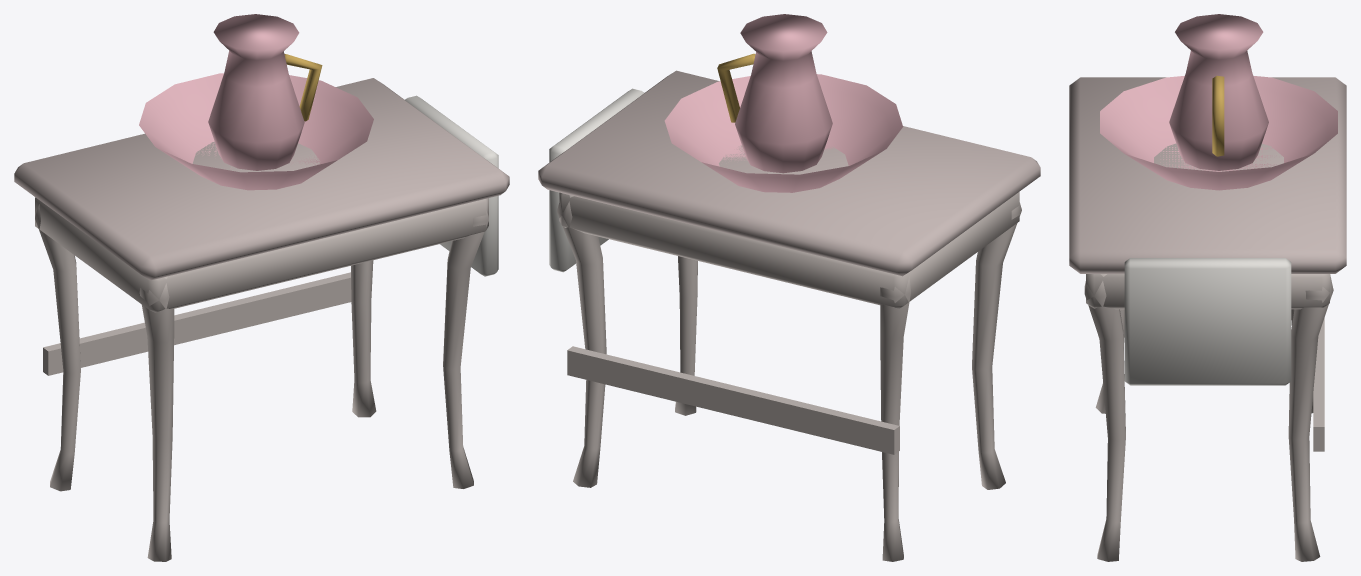
File: washstand.glb
3 views of the same model, side by side, from view 1: azimuth 30°, elevation 25°; view 2: azimuth 150°, elevation 25°; view 3: azimuth 270°, elevation 25° (orthographic).
Visible parts, largest first — view 1: washstand; view 2: washstand; view 3: washstand.
Part boxes in pixels (<box>): washstand: <box>14,14,509,561</box>; washstand: <box>538,14,1040,561</box>; washstand: <box>1069,14,1346,561</box>.
Size of what is drawn, in the model's own units: 0.8 by 0.9 by 0.5.
